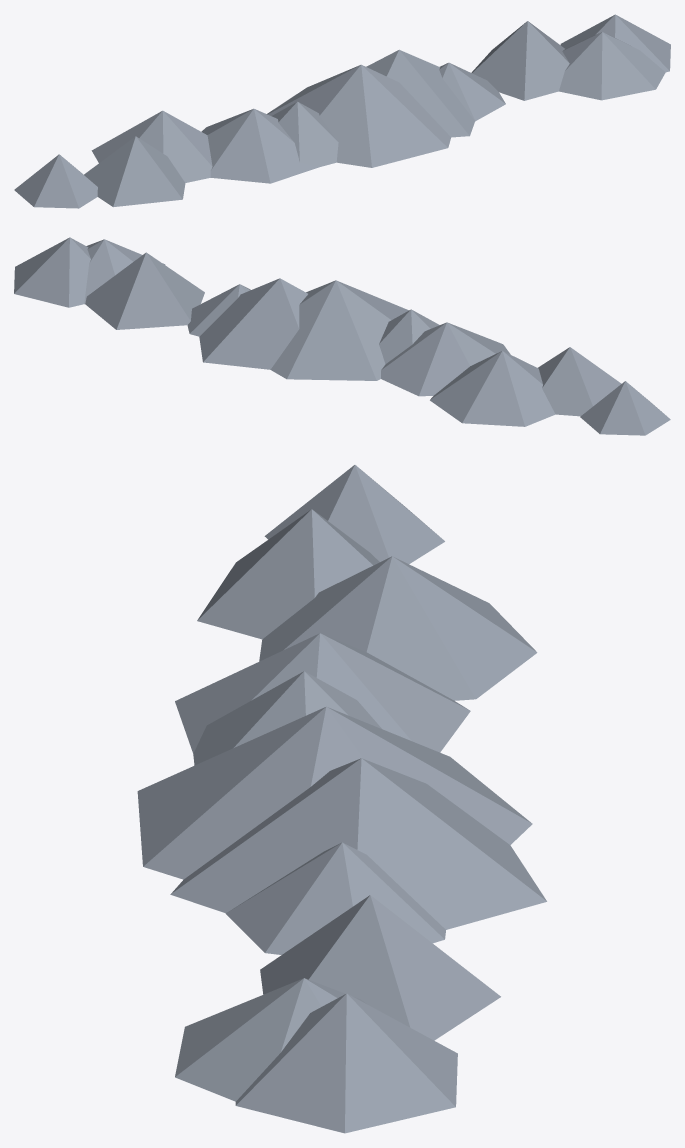
Rendered from mountains.glb.
3 renders of one model, top to bottom at view 1: azimuth 30°, elevation 25°; view 2: azimuth 150°, elevation 25°; view 3: azimuth 270°, elevation 25°, orthographic. The views are drawn at different scales.
Visible parts, largest first — view 1: Mountains; view 2: Mountains; view 3: Mountains.
Part boxes in pixels (box(x1,y1,x2,y2)): Mountains: box(14, 14, 670, 208); Mountains: box(14, 237, 670, 435); Mountains: box(137, 465, 546, 1133).
Size of the model in its own units: 1108 by 98.61 by 305.
